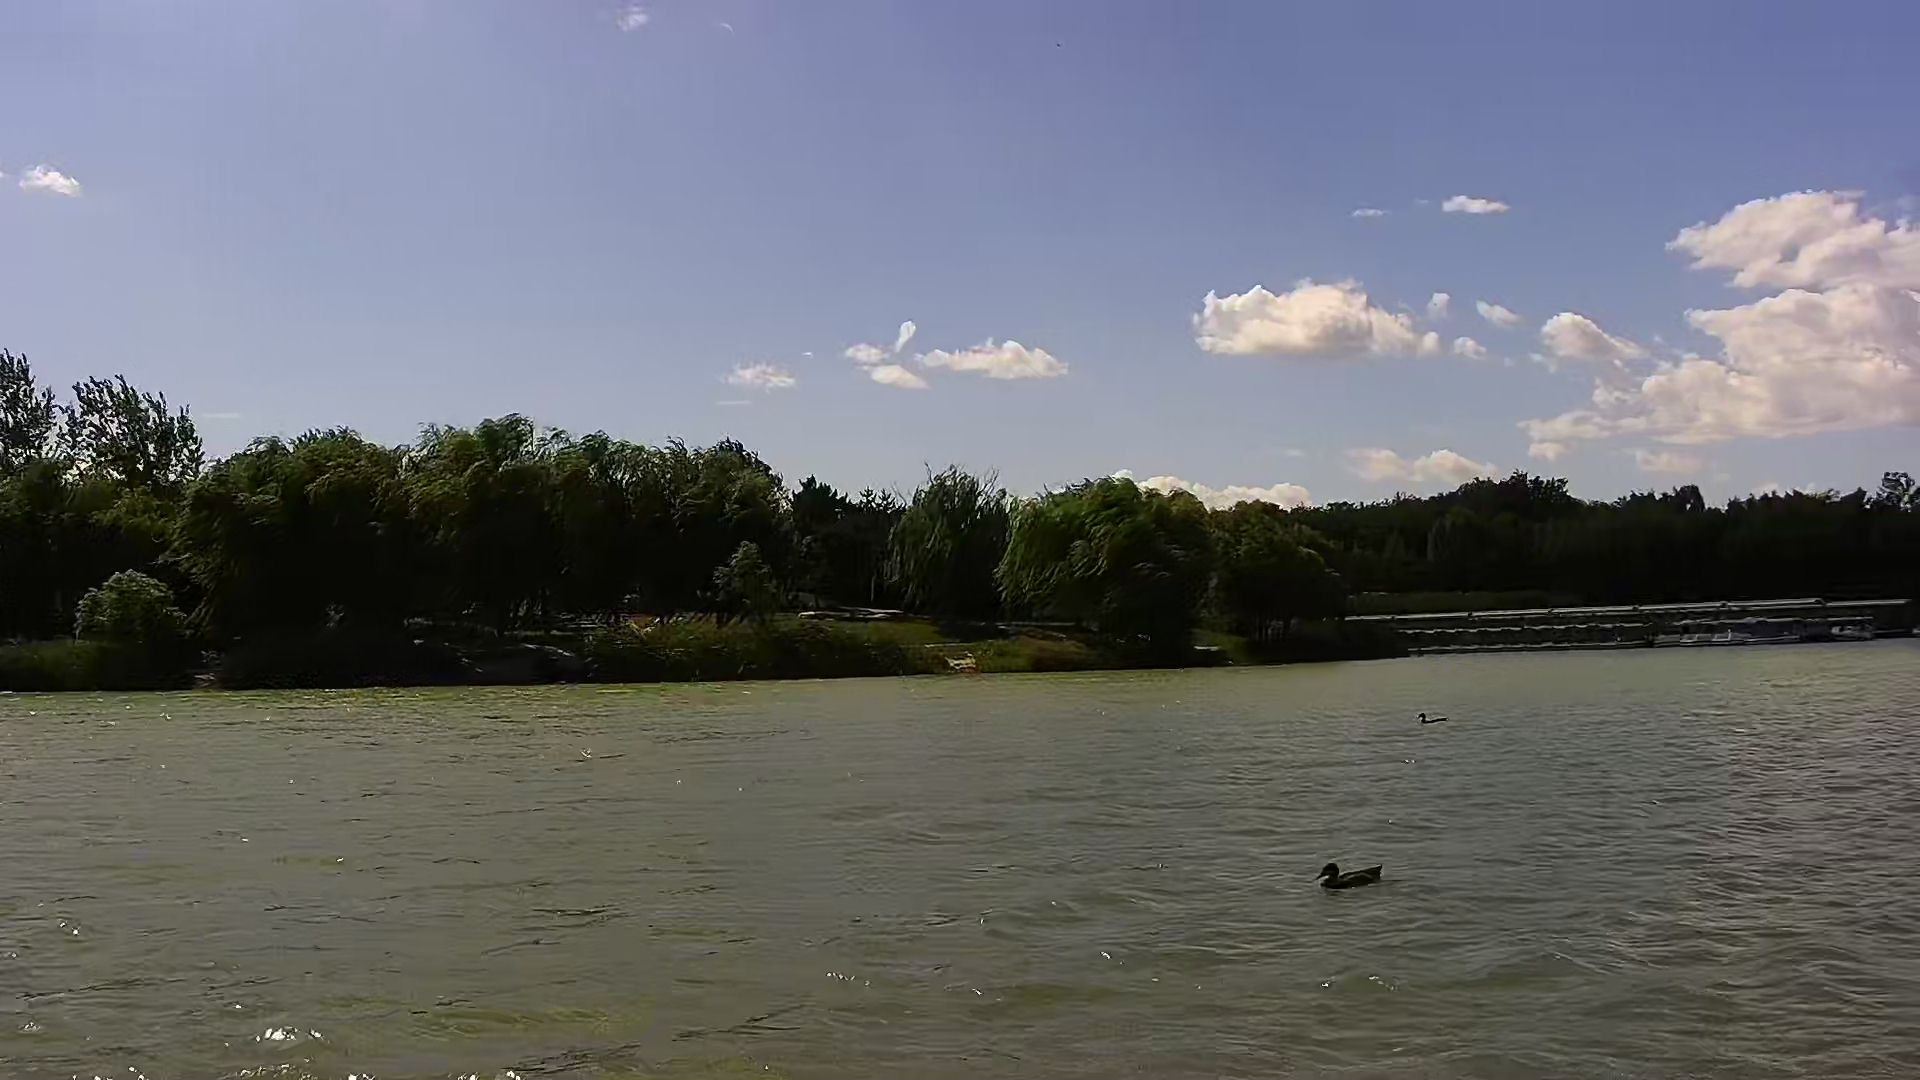animal: (1317, 858, 1391, 898), (1418, 708, 1451, 727)
harbor: (1411, 604, 1902, 644)
rock: (949, 655, 978, 671)
